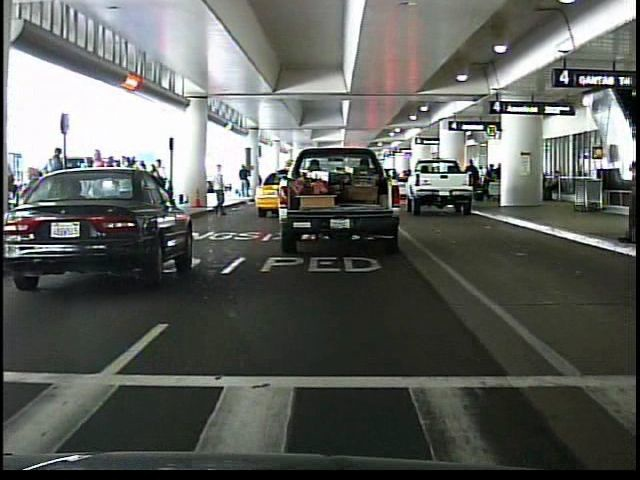person: (83, 147, 112, 230), (208, 160, 231, 219), (237, 162, 256, 197)
